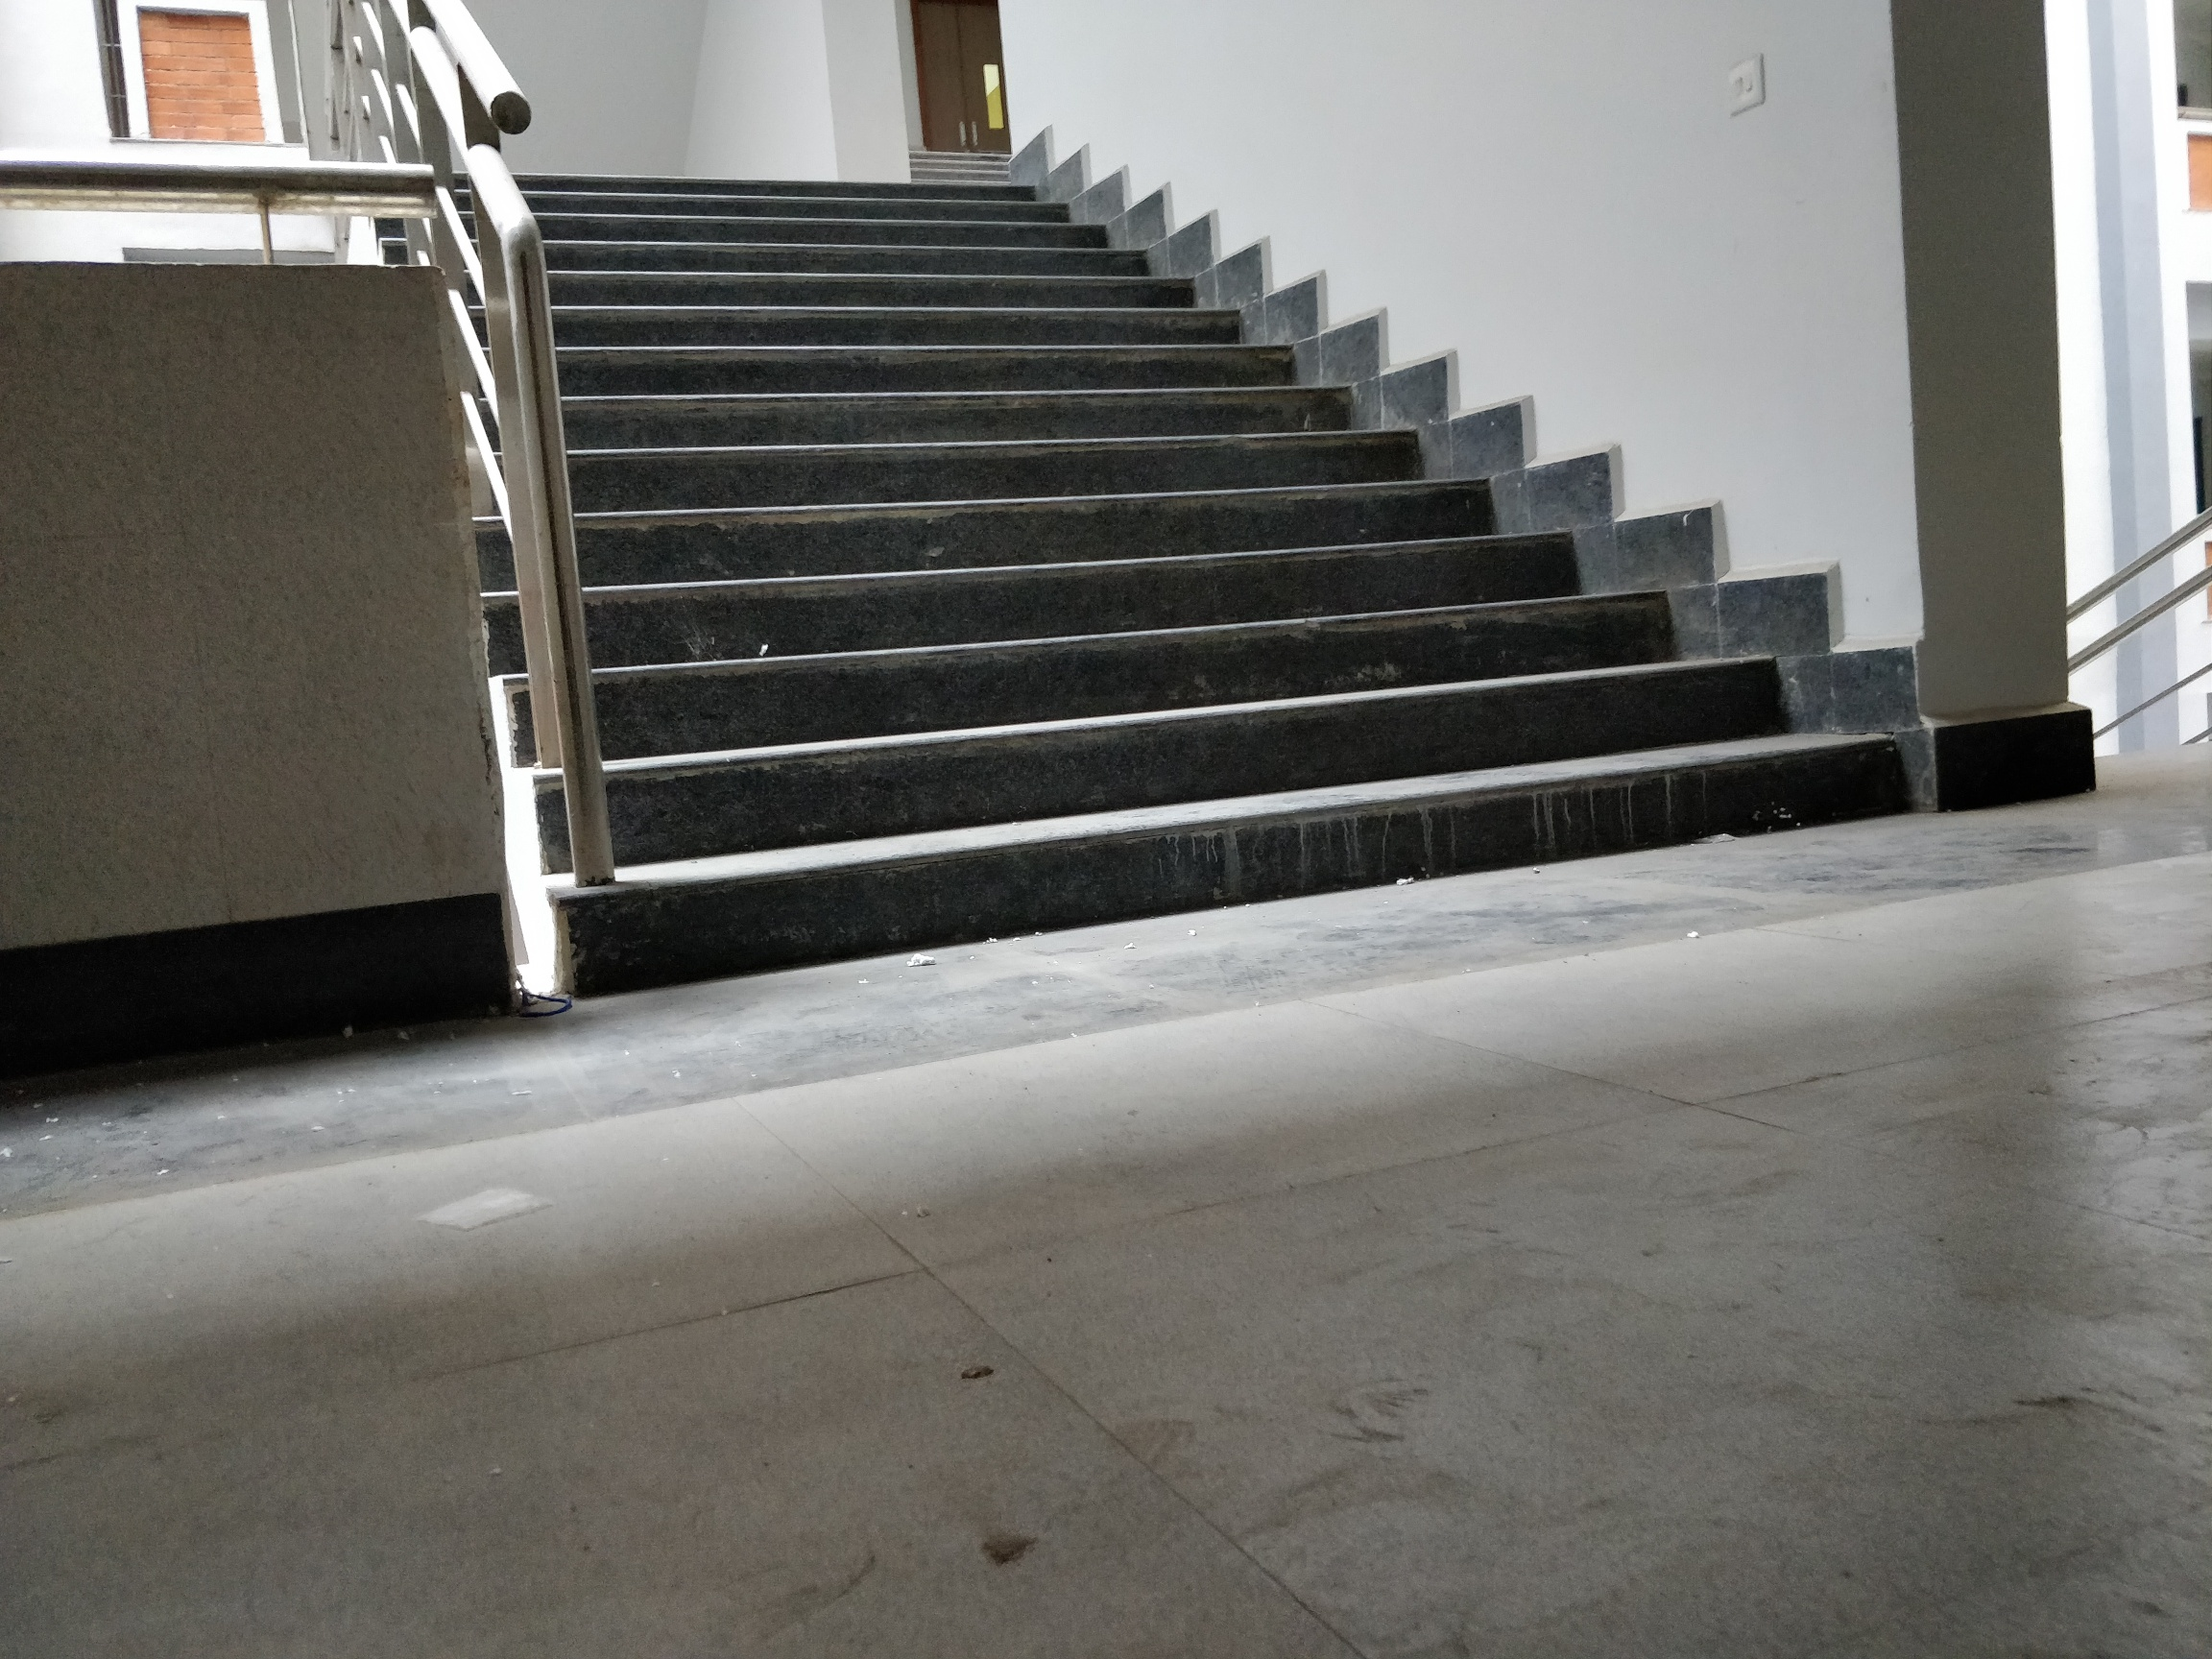stairs_up: (479, 193, 1773, 864)
